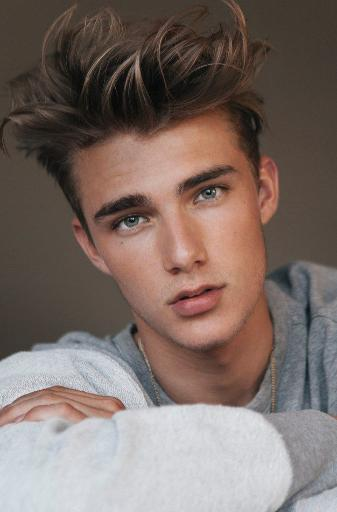left_eye: (192, 184, 233, 207)
left_lip_corner: (218, 280, 231, 298)
right_eye: (112, 212, 156, 236)
right_lip_corner: (165, 298, 177, 313)
